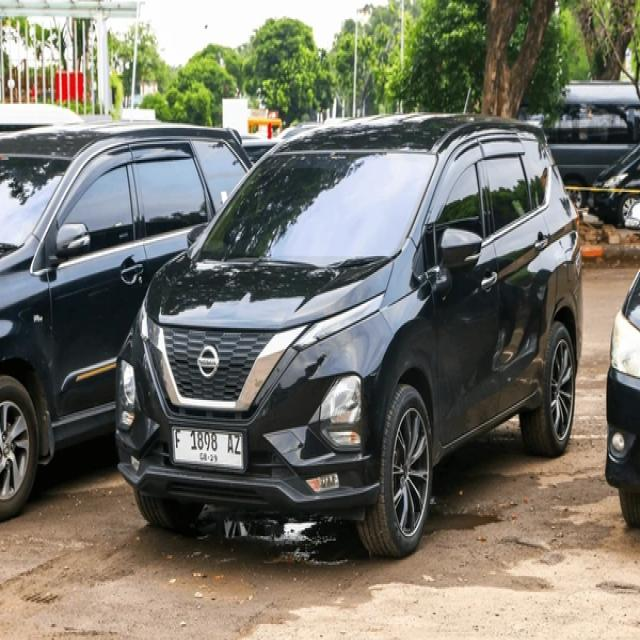nissan: (194, 345, 222, 378)
